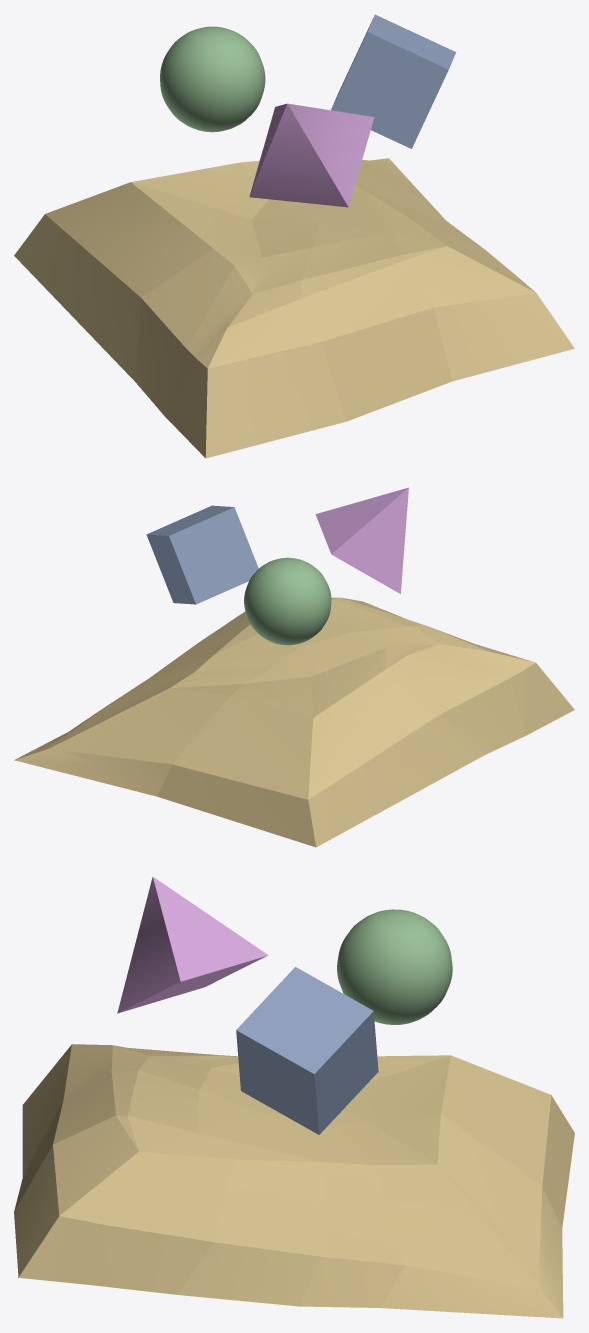
The picture shows the model from 3 angles, top to bottom: view 1: azimuth 30°, elevation 25°; view 2: azimuth 150°, elevation 25°; view 3: azimuth 270°, elevation 25°; orthographic projection. The views are drawn at different scales.
Parts seen in each view (by area): view 1: s.0010, p.0012, p.0013, p.0011; view 2: s.0010, p.0013, p.0011, p.0012; view 3: s.0010, p.0013, p.0011, p.0012.
Boxes of the visible parts, <box> form: s.0010: <box>14,158,574,458</box>; p.0012: <box>249,103,374,207</box>; p.0013: <box>331,14,456,148</box>; p.0011: <box>160,26,265,132</box>; s.0010: <box>14,597,574,847</box>; p.0013: <box>146,505,258,604</box>; p.0011: <box>244,557,331,645</box>; p.0012: <box>315,487,408,593</box>; s.0010: <box>14,1044,574,1318</box>; p.0013: <box>236,967,378,1134</box>; p.0011: <box>337,909,452,1024</box>; p.0012: <box>117,877,268,1013</box>.
Bounding box in the file's own units: 0.6099 × 0.3759 × 0.6288.
